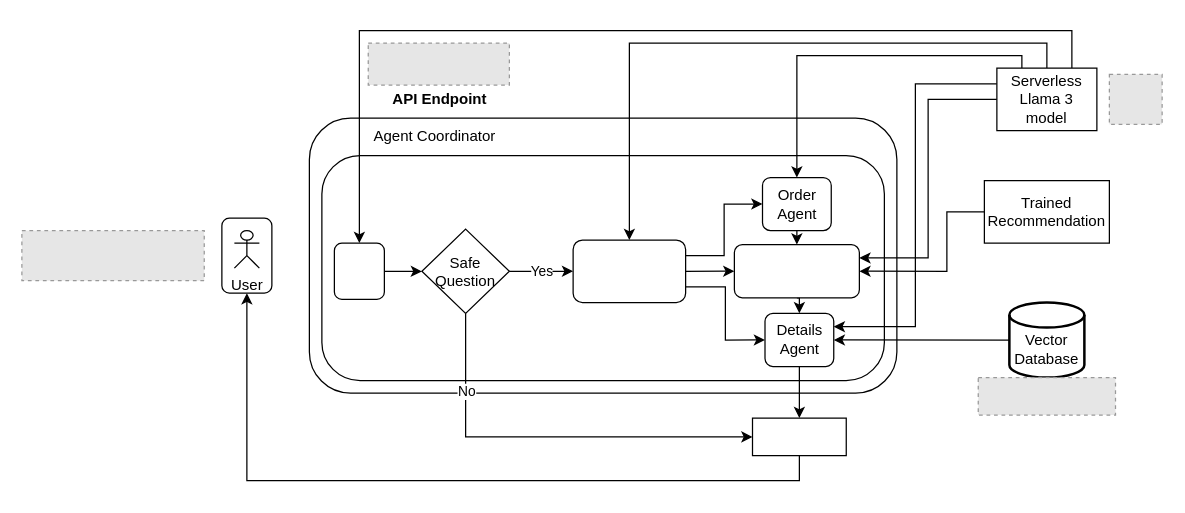
Some shapes in this 1185 by 513 pixel diagram are drawn without their labels. Grey dashed boxes stand in for pictures. Here are the shapes that lost their labels. From the top down, the centre of each, then its label:
At (358,270): "Guard Agent".
At (629,270): "Input Classifier Agent".
At (796,270): "Recommendation Agent".
At (798,436): "Response".
